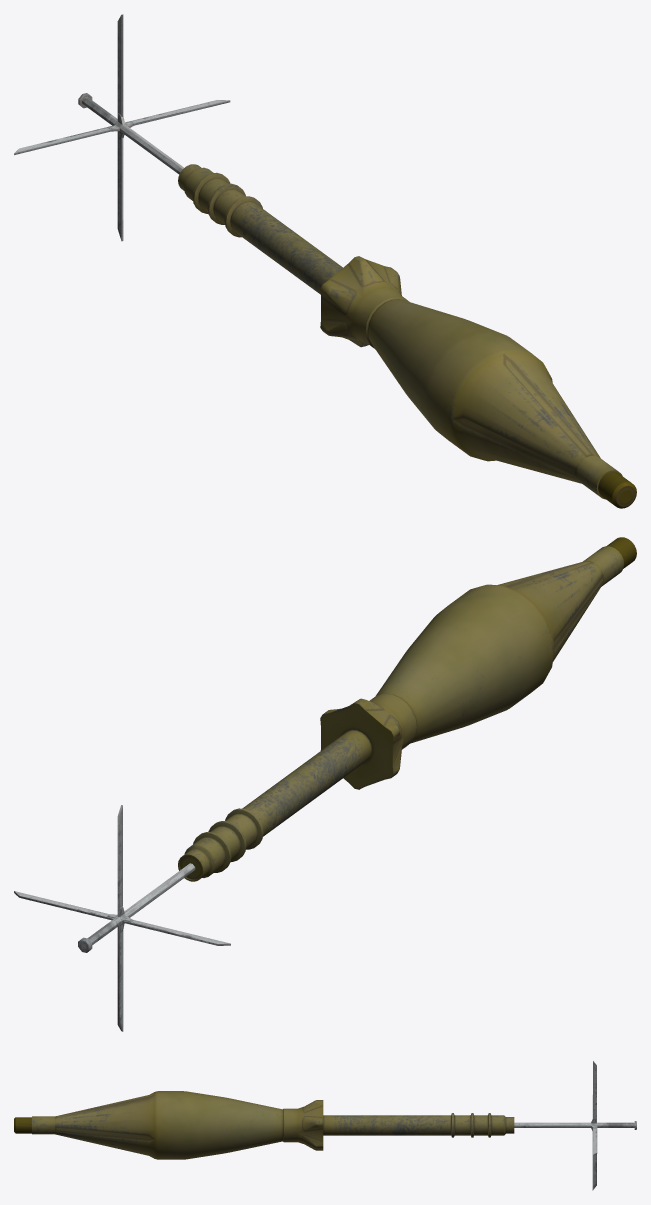
The model's file is rpgrocket.fbx.
3 renders of one model, top to bottom at view 1: azimuth 30°, elevation 25°; view 2: azimuth 150°, elevation 25°; view 3: azimuth 270°, elevation 25°, orthographic. The views are drawn at different scales.
Parts seen in each view (by area): view 1: rpgrocket; view 2: rpgrocket; view 3: rpgrocket.
Part boxes in pixels (x1,y1,x2,y2): rpgrocket: [14, 14, 636, 508]; rpgrocket: [14, 537, 636, 1031]; rpgrocket: [14, 1061, 636, 1190].
Bounding box in the file's own units: 19.44 × 19.42 × 84.27.
